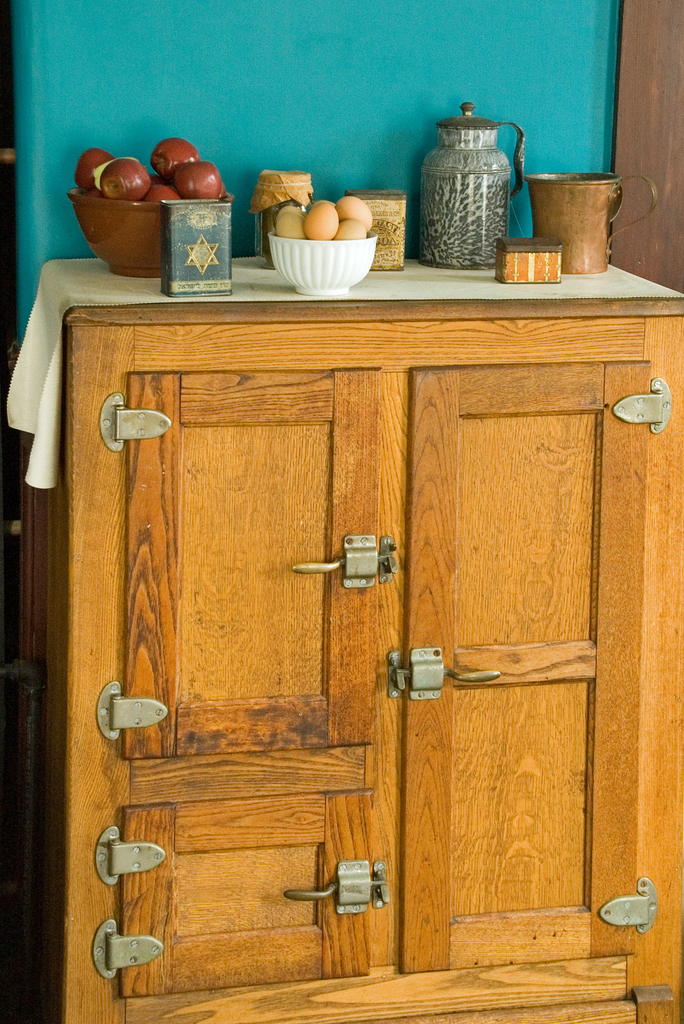cabinet door: (408, 377, 636, 936), (130, 374, 366, 738), (130, 808, 372, 978)
handle: (294, 525, 390, 593), (408, 640, 500, 705), (286, 868, 382, 914)
